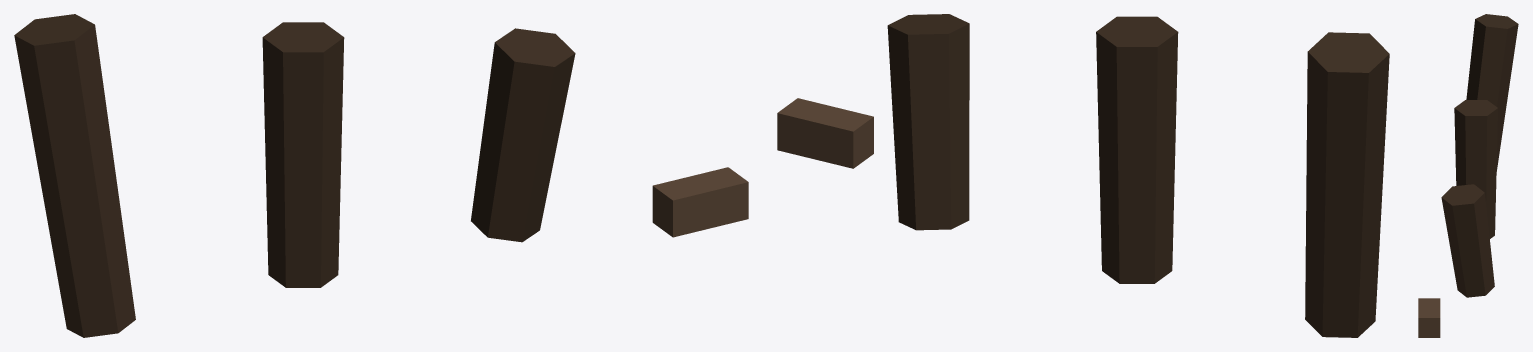
The model's file is s3_half_stake.glb.
3 views of the same model, side by side, from view 1: azimuth 30°, elevation 25°; view 2: azimuth 150°, elevation 25°; view 3: azimuth 270°, elevation 25° (orthographic). The views are drawn at different scales.
Parts seen in each view (by area): view 1: s3_half_stake; view 2: s3_half_stake; view 3: s3_half_stake.
Part boxes in pixels (<box>): s3_half_stake: <box>14,14,748,337</box>; s3_half_stake: <box>777,14,1389,337</box>; s3_half_stake: <box>1418,14,1518,337</box>.
Bounding box in the file's own units: 2.58 × 1.12 × 0.6407.
